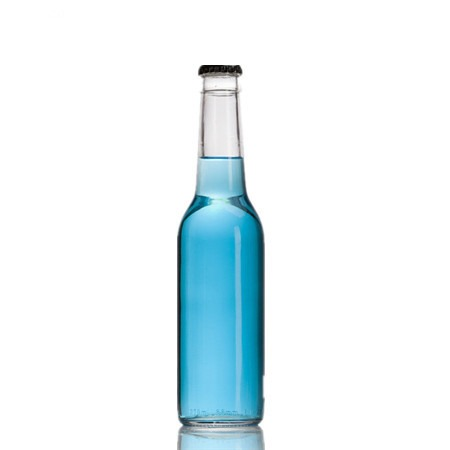container: (171, 58, 270, 440)
